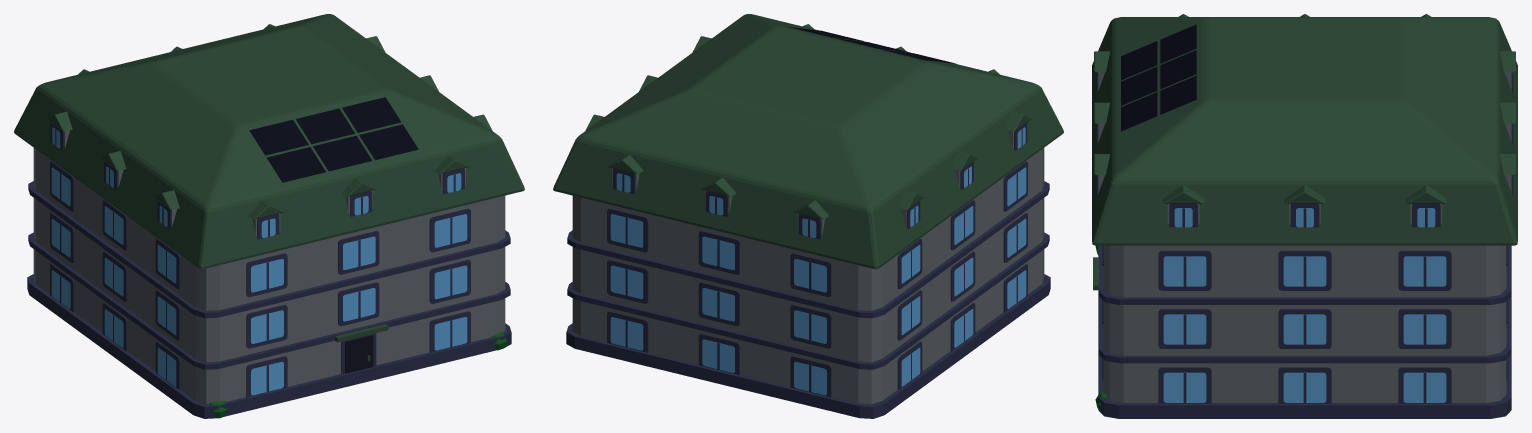
The model's file is house-2x2-3f-mansard-d-solar.glb.
3 views of the same model, side by side, from view 1: azimuth 30°, elevation 25°; view 2: azimuth 150°, elevation 25°; view 3: azimuth 270°, elevation 25° (orthographic). The views are drawn at different scales.
Visible parts, largest first — view 1: house-2x2-3f-mansard-d-solar; view 2: house-2x2-3f-mansard-d-solar; view 3: house-2x2-3f-mansard-d-solar.
Boxes of the visible parts, bbox=[...] form: house-2x2-3f-mansard-d-solar: bbox=[14, 14, 524, 418]; house-2x2-3f-mansard-d-solar: bbox=[553, 14, 1063, 418]; house-2x2-3f-mansard-d-solar: bbox=[1092, 14, 1517, 418].
Size of the model in its own units: 1.99 by 1.41 by 1.99.
Materials: 1 (1 with a texture image).
